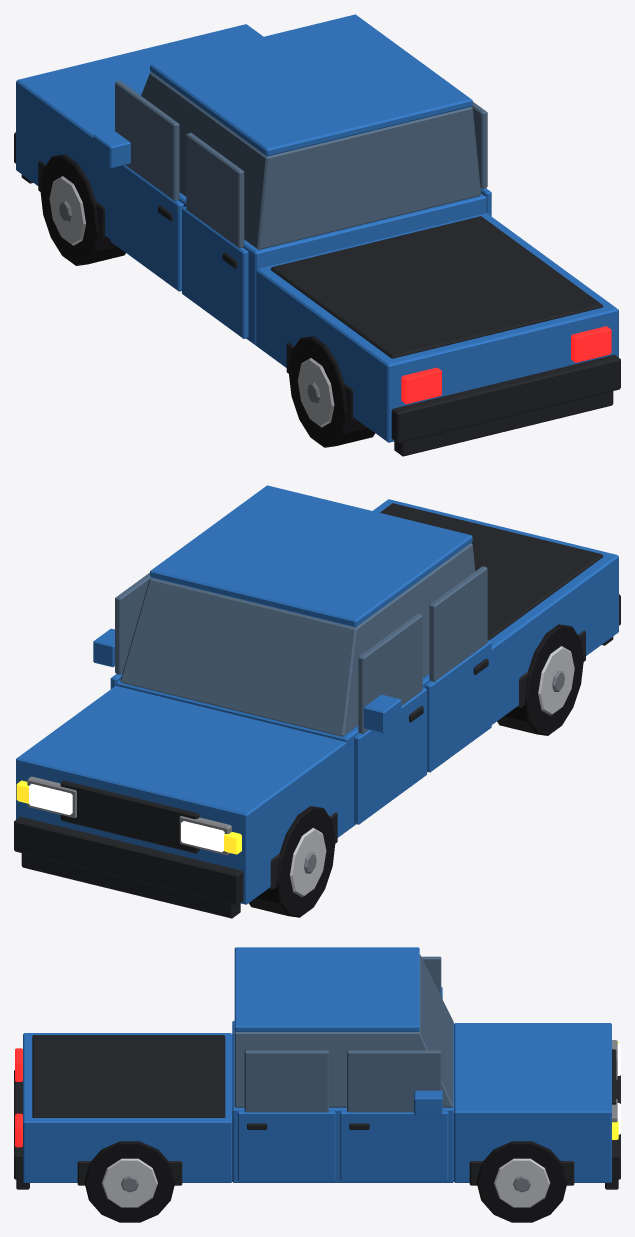
Rendered from car_pickup.glb.
3 renders of one model, top to bottom at view 1: azimuth 30°, elevation 25°; view 2: azimuth 150°, elevation 25°; view 3: azimuth 270°, elevation 25°, orthographic. The views are drawn at different scales.
Parts seen in each view (by area): view 1: car_body, car_door_FL, car_door_RL, car_door_RR; view 2: car_body, car_door_FL, car_door_RL, car_door_FR; view 3: car_body, car_door_FR, car_door_RR, car_door_FL.
Part boxes in pixels (box(x1,y1,x2,y2)): car_body: box(14, 14, 620, 456); car_door_FL: box(93, 80, 183, 291); car_door_RL: box(182, 132, 248, 338); car_door_RR: box(471, 101, 491, 216); car_body: box(14, 485, 620, 918); car_door_FL: box(354, 614, 426, 824); car_door_RL: box(425, 566, 491, 772); car_door_FR: box(93, 572, 151, 688); car_body: box(14, 947, 620, 1222); car_door_FR: box(340, 1050, 448, 1181); car_door_RR: box(238, 1050, 335, 1181); car_door_FL: box(421, 956, 442, 998).
Bounding box in the file's own units: 2.34 × 1.85 × 5.34.
